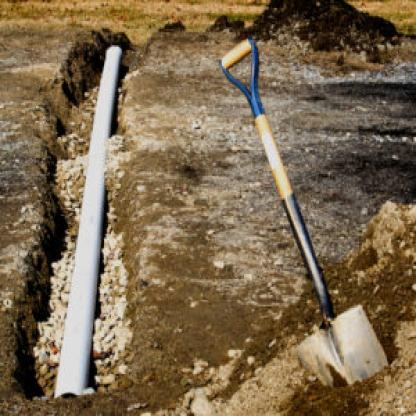PVC: (54, 45, 124, 399)
